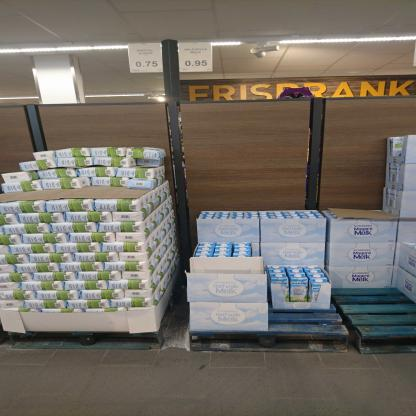prtg: (129, 43, 164, 74), (179, 43, 214, 73)
